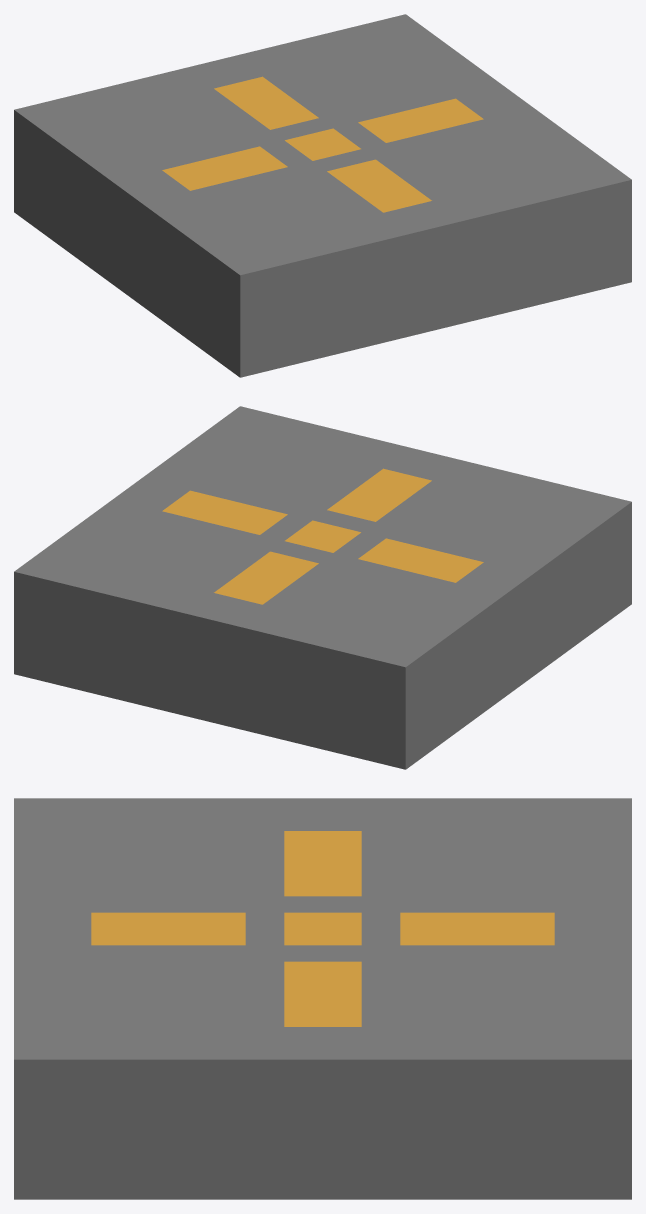
File: crossroad4.fbx
The picture shows the model from 3 angles, top to bottom: view 1: azimuth 30°, elevation 25°; view 2: azimuth 150°, elevation 25°; view 3: azimuth 270°, elevation 25°; orthographic projection. The views are drawn at different scales.
Parts seen in each view (by area): view 1: Cube; view 2: Cube; view 3: Cube.
Boxes of the visible parts, x1=… form: Cube: x1=14, y1=14, x2=631, y2=377; Cube: x1=14, y1=406, x2=631, y2=769; Cube: x1=14, y1=798, x2=631, y2=1199.
Size of the model in its own units: 800 by 200 by 800.
